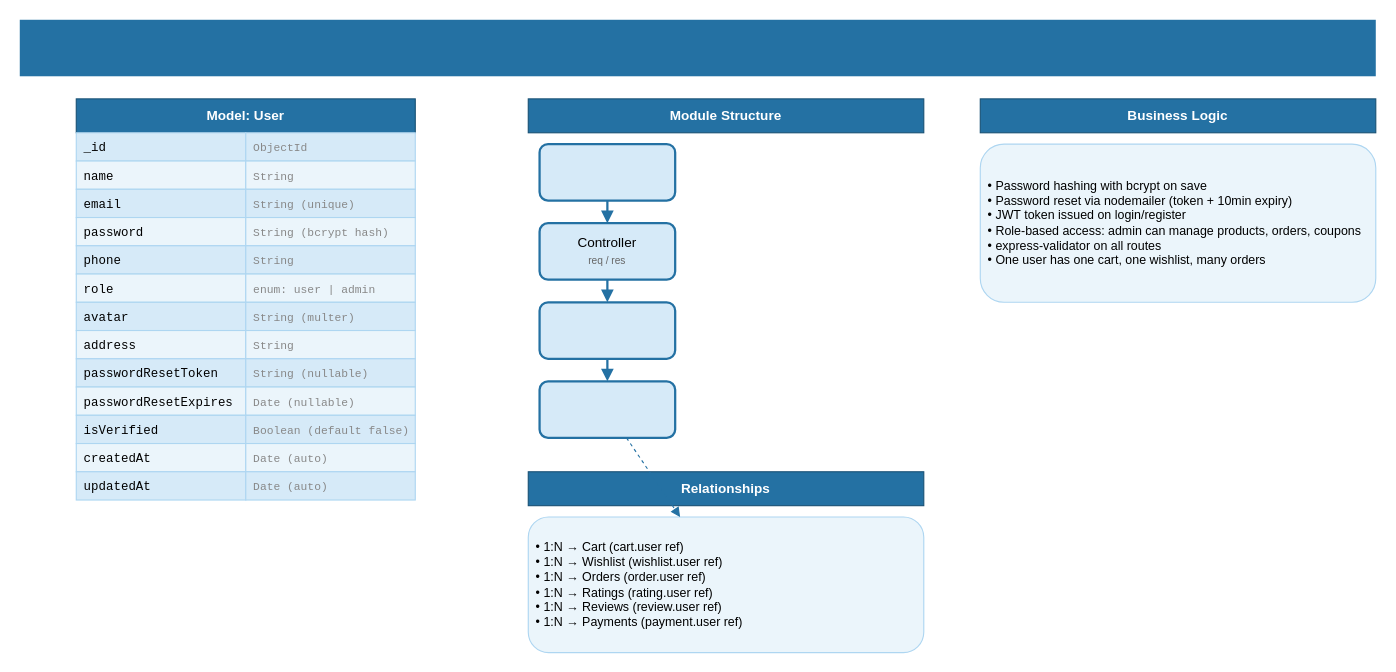
Some shapes in this 1396 by 672 pixel diagram are drawn without their labels. The shapes that lost their labels are listed below. From the top down, each one's centre as x and y in pixels, then its label:
At (697,47): "USERS MODULE Authentication, Authorization & User Management".
At (607,171): "Route express-validator".
At (607,330): "Service bcrypt, JWT, nodemailer".
At (607,409): "Model Mongoose schema".
